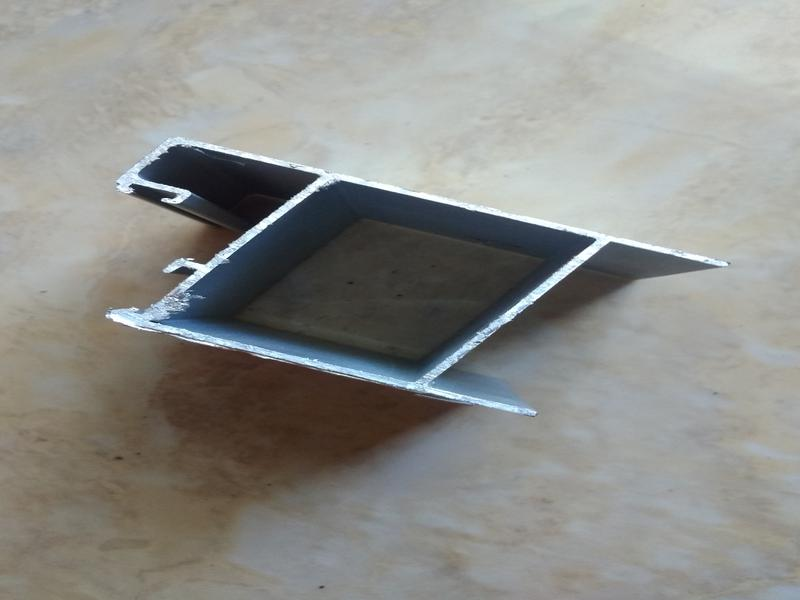Aluminium_2: (61, 101, 748, 443)
